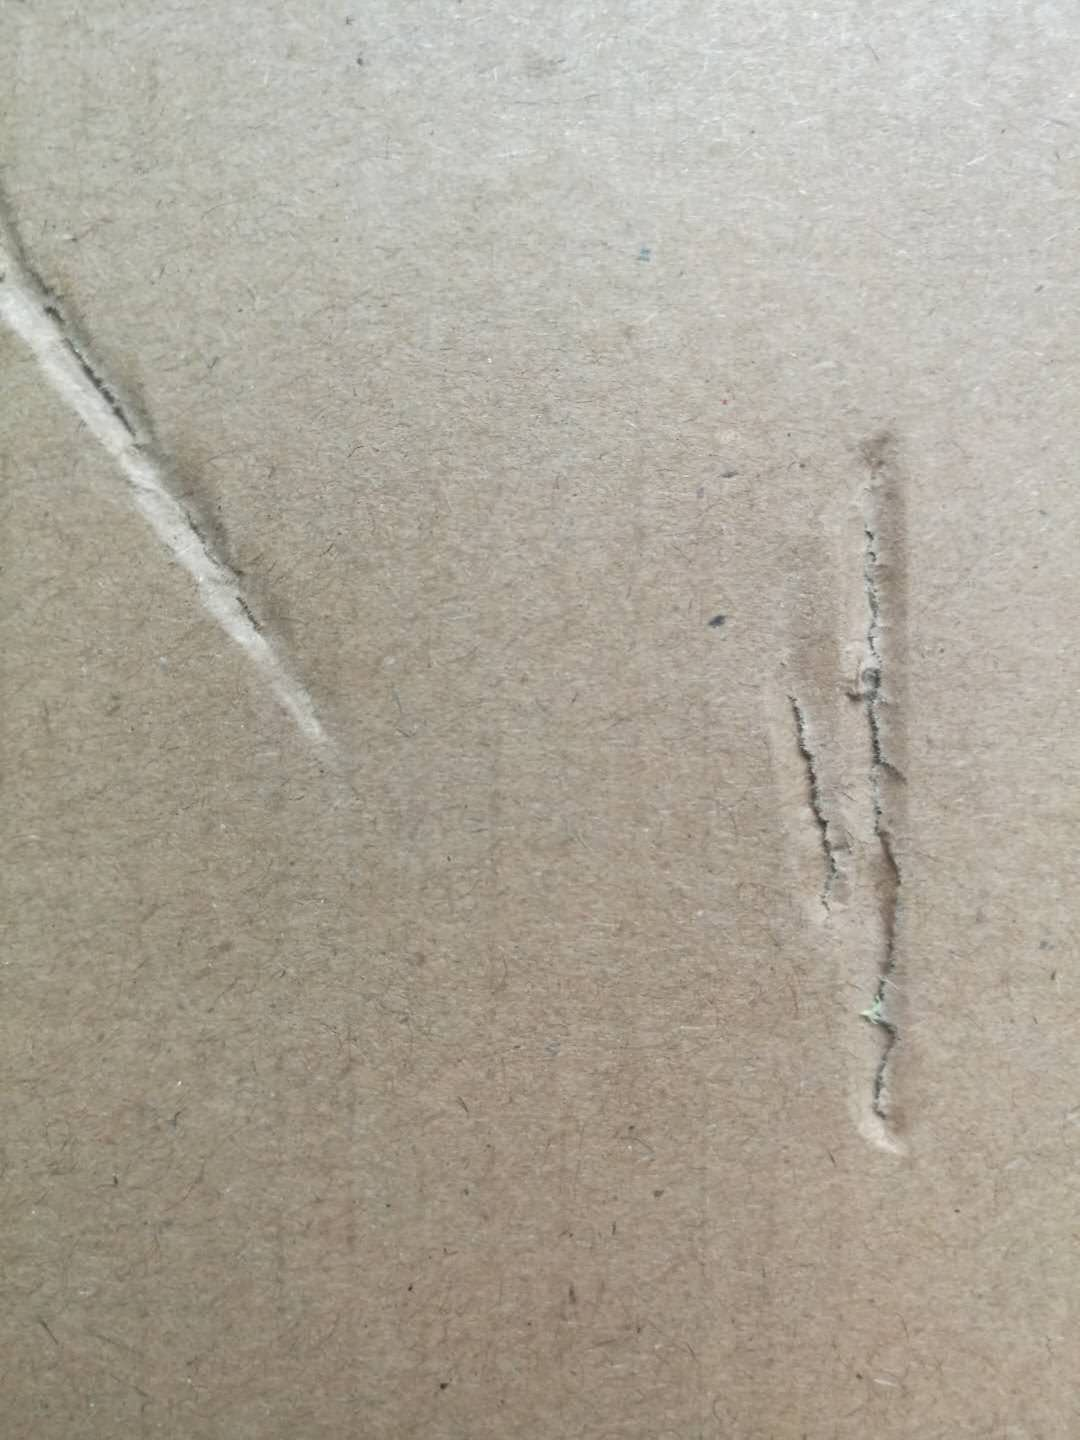defect: (2, 144, 371, 816), (712, 421, 994, 1181)
